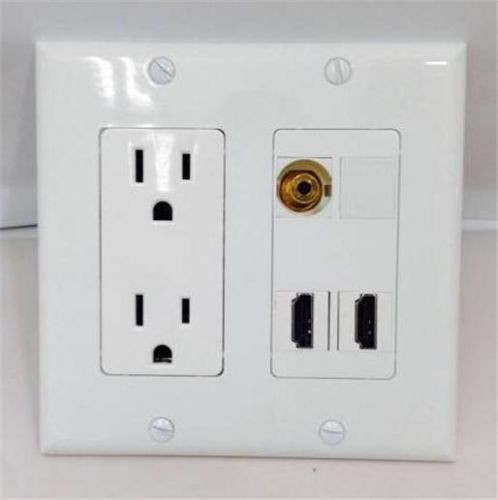outlet: (128, 140, 198, 228), (129, 289, 197, 368)
